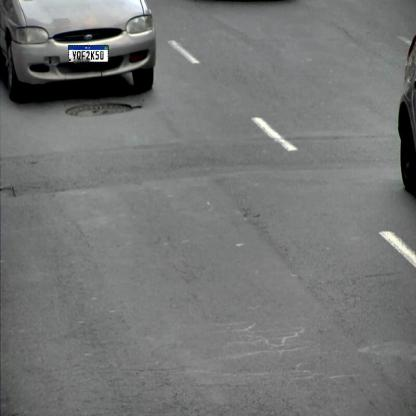PlacaM: (68, 45, 109, 62)
